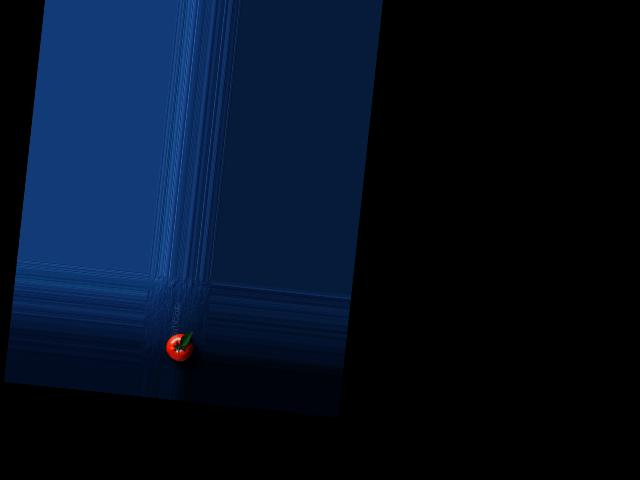tomato: (165, 332, 194, 362)
